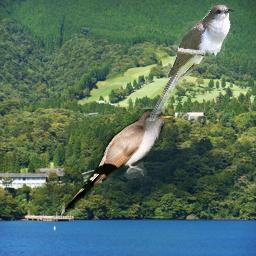Cuckoo: (60, 109, 175, 215), (148, 4, 234, 122)
